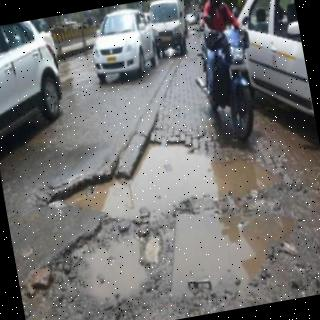pothole: (48, 145, 284, 217), (172, 210, 295, 300), (75, 236, 160, 301)
